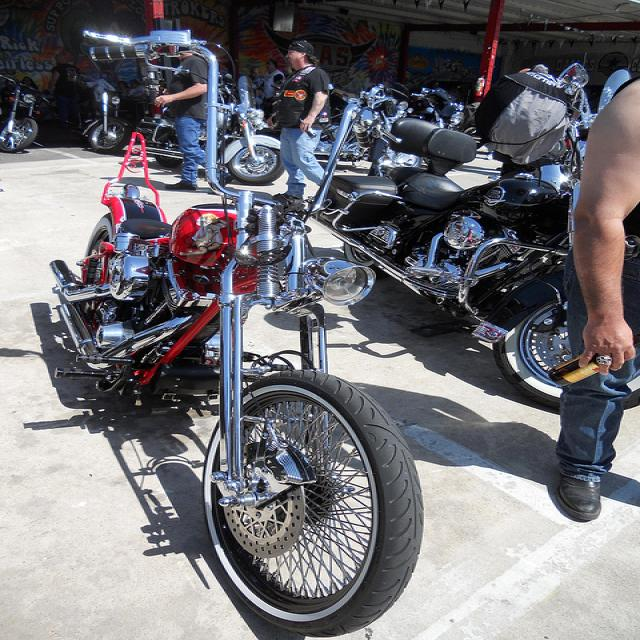motor: (48, 14, 421, 571), (337, 71, 627, 403), (219, 76, 284, 186), (61, 76, 133, 153), (0, 74, 53, 154), (405, 89, 463, 128)
